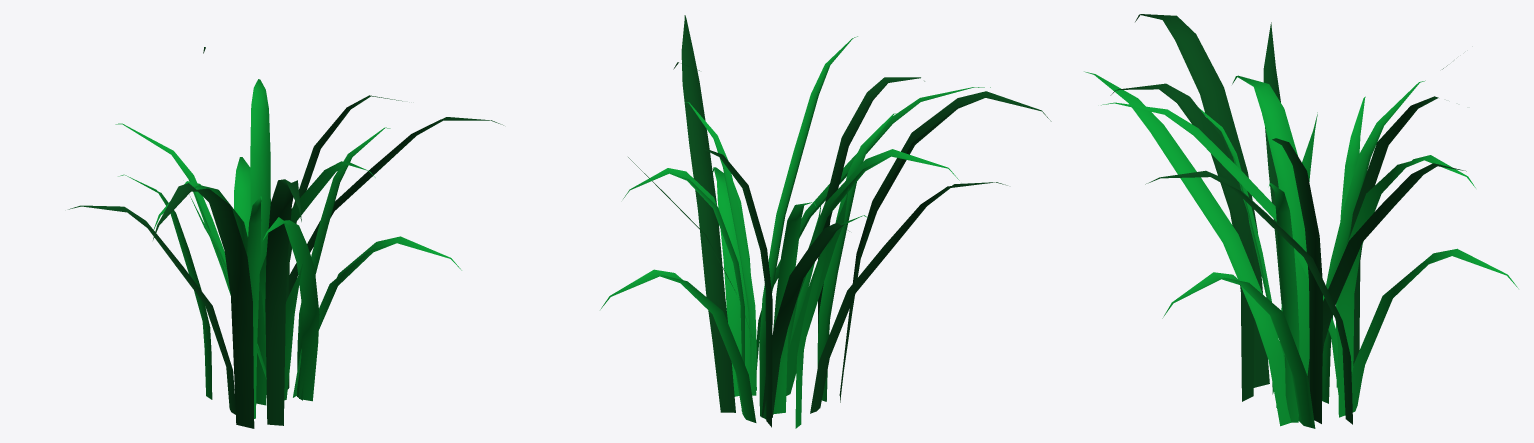
File: SM_Low_Grass.fbx
3 renders of one model, left to right at view 1: azimuth 30°, elevation 25°; view 2: azimuth 150°, elevation 25°; view 3: azimuth 270°, elevation 25°, orthographic. The views are drawn at different scales.
Visible parts, largest first — view 1: Grass; view 2: Grass; view 3: Grass.
Part boxes in pixels (<box>): Grass: <box>68,47,503,428</box>; Grass: <box>600,15,1051,428</box>; Grass: <box>1084,14,1518,428</box>.
Bounding box in the file's own units: 27.19 × 20.28 × 25.22.
